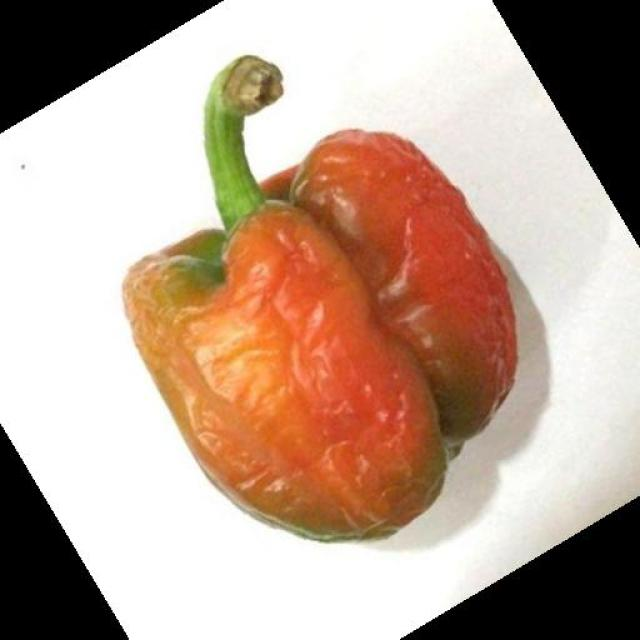Stale_Capsicum: (131, 110, 534, 510)
